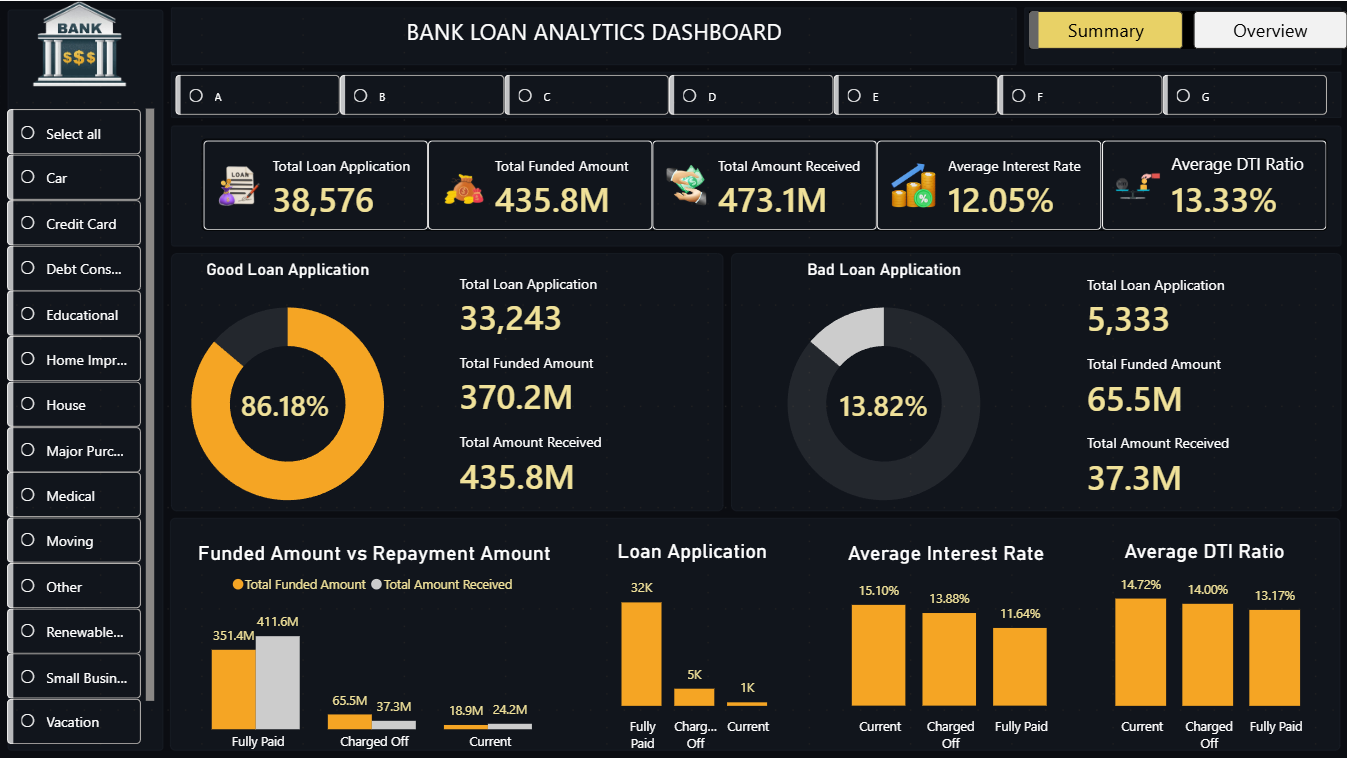

The dashboard page shown, as its layout file describes it:
{"tool":"powerbi","page":{"name":"Summary","canvas":[1280,720],"ordinal":0},"visuals":[{"type":"cardVisual","fields":{"Data":["financial_loan.Total Loan Application","financial_loan.Total Funded Amount","financial_loan.Total Amount Received","financial_loan.Average Interest Rate","financial_loan.Average DTI Ratio"]},"box":[175.3,114.1,1104.7,121],"z":0},{"type":"donutChart","title":"Good Loan Application","fields":{"Y":["financial_loan.Total Loan Application"],"Category":["financial_loan.good_vs_bad"]},"box":[44.5,244.9,457.7,256],"z":1000},{"type":"cardVisual","fields":{"Data":["financial_loan.Good Loan %"]},"box":[200.3,347.8,160,68.2],"z":2000},{"type":"cardVisual","fields":{"Data":["financial_loan.Bad Loan %"]},"box":[768,347.8,160,68.2],"z":3000},{"type":"donutChart","title":"Bad Loan Application","fields":{"Y":["financial_loan.Total Loan Application"],"Category":["financial_loan.good_vs_bad"]},"box":[610.8,244.9,457.7,256],"z":4000},{"type":"cardVisual","fields":{"Data":["financial_loan.Total Loan Application","financial_loan.Total Funded Amount","financial_loan.Total Amount Received"],"Rows":["financial_loan.good_vs_bad"]},"box":[407.7,185,232.3,327],"z":5000},{"type":"cardVisual","fields":{"Data":["financial_loan.Total Loan Application","financial_loan.Total Funded Amount","financial_loan.Total Amount Received"],"Rows":["financial_loan.good_vs_bad"]},"box":[1003.1,186.4,232.3,327],"z":6000},{"type":"clusteredColumnChart","title":"Funded Amount vs Repayment Amount","fields":{"Category":["financial_loan.LOAN_STATUS"],"Y":["financial_loan.Total Funded Amount","financial_loan.Total Amount Received"]},"box":[153,512,406.3,208.7],"z":7000},{"type":"clusteredColumnChart","title":"Loan Application","fields":{"Category":["financial_loan.LOAN_STATUS"],"Y":["financial_loan.Total Loan Application"]},"box":[559.3,510.6,196.2,208.7],"z":8000},{"type":"clusteredColumnChart","title":"Average Interest Rate","fields":{"Category":["financial_loan.LOAN_STATUS"],"Y":["financial_loan.Average Interest Rate"]},"box":[768,512,260.2,207.3],"z":9000},{"type":"clusteredColumnChart","title":"Average DTI Ratio","fields":{"Category":["financial_loan.LOAN_STATUS"],"Y":["financial_loan.Average DTI Ratio"]},"box":[1019.8,510.6,247.7,208.7],"z":10000},{"type":"image","box":[0,0,153,80.7],"z":11000},{"type":"shape","box":[162.8,0,804.2,55.7],"z":12000},{"type":"advancedSlicerVisual","fields":{"Values":["financial_loan.PURPOSE"]},"box":[2.8,96.7,150.3,623.3],"z":13000},{"type":"advancedSlicerVisual","fields":{"Values":["financial_loan.GRADE"]},"box":[162.8,65.4,1104.7,48.7],"z":14000},{"type":"pageNavigator","box":[976.7,9.7,303.3,36.2],"z":15000}]}

Visuals, with their boxes in screenshot pixels (x1, y1, x2, y2), scaled from the page's 1280x720 canvas onto the 1347x758 screenshot:
cardVisual - financial_loan.Total Loan Application x financial_loan.Total Funded Amount: box=[184, 120, 1346, 248]
"Good Loan Application" donutChart: box=[47, 258, 528, 527]
cardVisual - financial_loan.Good Loan %: box=[211, 366, 379, 438]
cardVisual - financial_loan.Bad Loan %: box=[808, 366, 977, 438]
"Bad Loan Application" donutChart: box=[643, 258, 1124, 527]
cardVisual - financial_loan.Total Loan Application x financial_loan.Total Funded Amount: box=[429, 195, 674, 539]
cardVisual - financial_loan.Total Loan Application x financial_loan.Total Funded Amount: box=[1056, 196, 1300, 540]
"Funded Amount vs Repayment Amount" clusteredColumnChart: box=[161, 539, 589, 757]
"Loan Application" clusteredColumnChart: box=[589, 538, 795, 757]
"Average Interest Rate" clusteredColumnChart: box=[808, 539, 1082, 757]
"Average DTI Ratio" clusteredColumnChart: box=[1073, 538, 1334, 757]
image: box=[0, 0, 161, 85]
shape: box=[171, 0, 1018, 59]
advancedSlicerVisual - financial_loan.PURPOSE: box=[3, 102, 161, 757]
advancedSlicerVisual - financial_loan.GRADE: box=[171, 69, 1334, 120]
pageNavigator: box=[1028, 10, 1346, 48]
